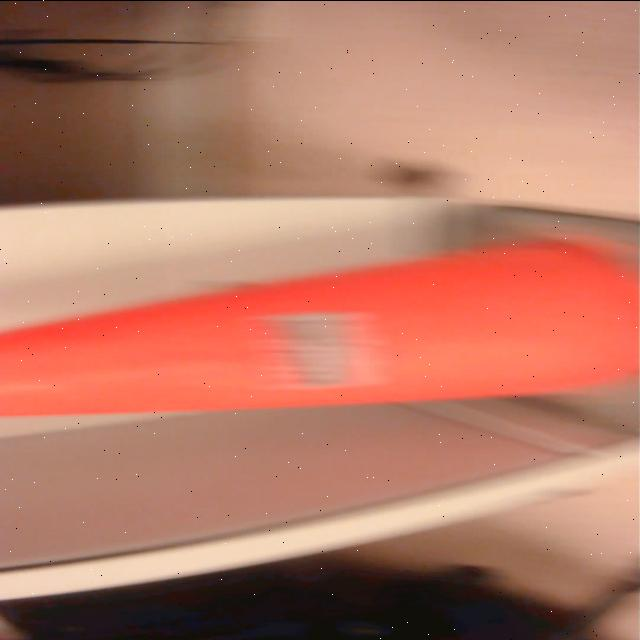traffic cone: (1, 187, 640, 430)
